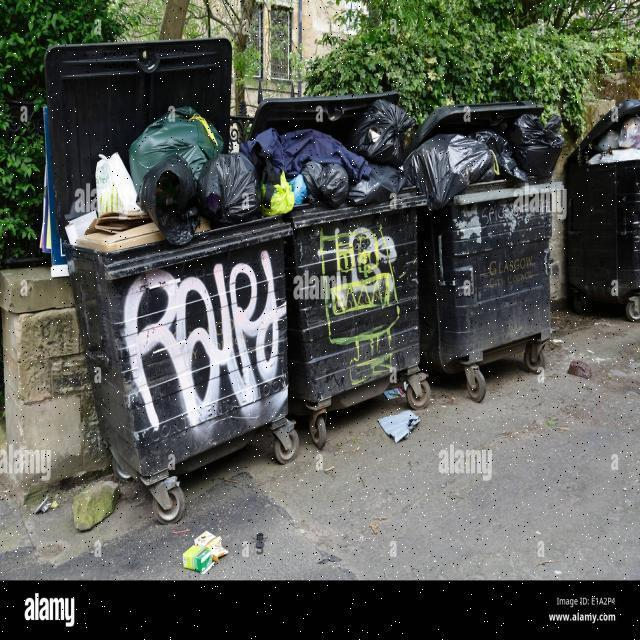Garbage: (66, 95, 562, 252)
Plastic_Bag: (129, 105, 224, 191), (404, 134, 495, 210), (140, 155, 200, 244), (198, 153, 261, 228), (349, 100, 415, 168), (505, 114, 564, 177), (470, 129, 528, 182), (95, 153, 140, 216), (348, 163, 405, 206), (301, 160, 349, 207), (512, 144, 561, 176), (261, 172, 295, 216)
